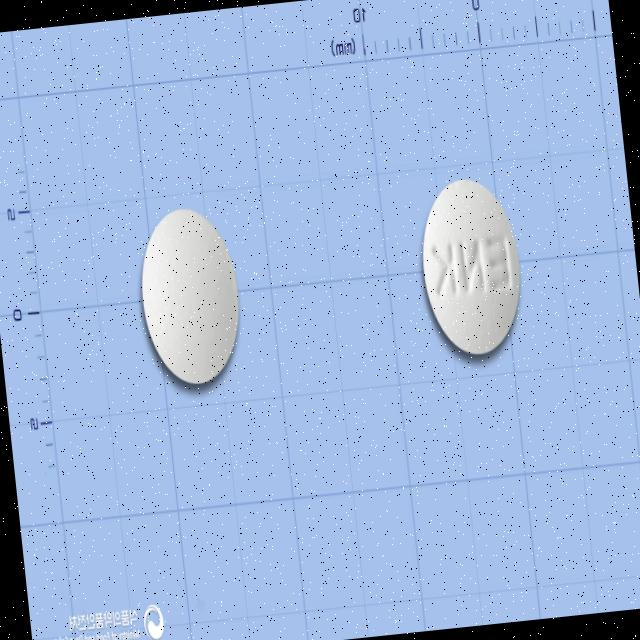Levoflo: (132, 202, 246, 390), (412, 174, 528, 358)
